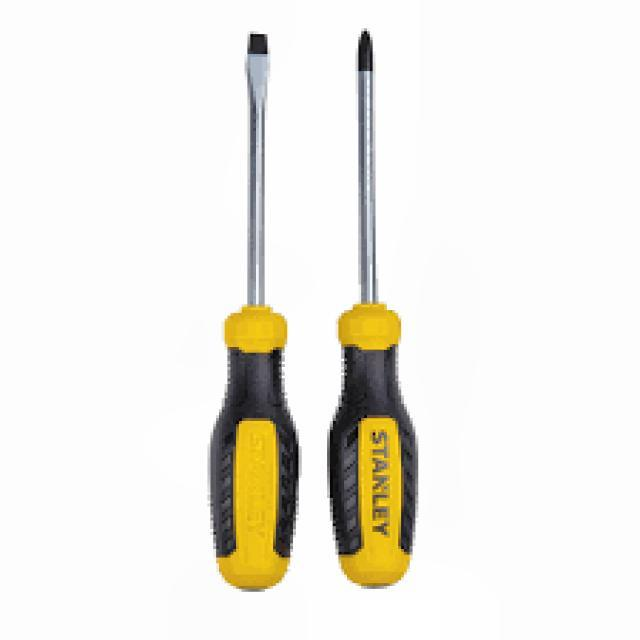screwdriver: (210, 34, 304, 592), (331, 29, 418, 588)
